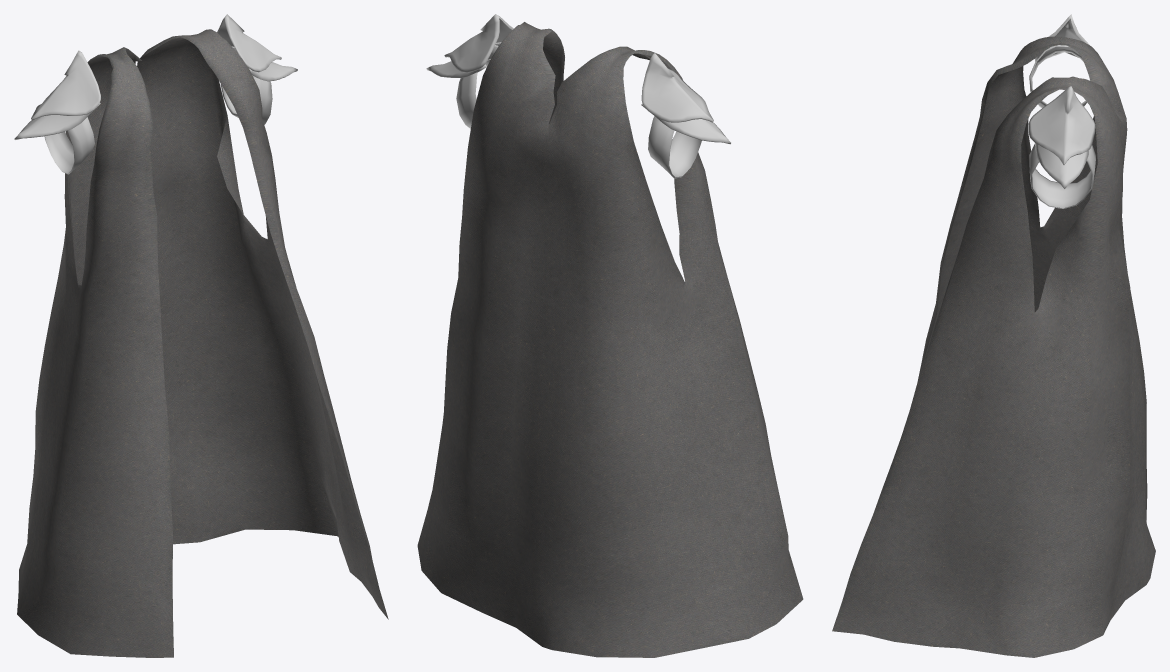
File: rivendell_pauldron_tier1_robe_silvergold.fbx
3 views of the same model, side by side, from view 1: azimuth 30°, elevation 25°; view 2: azimuth 150°, elevation 25°; view 3: azimuth 270°, elevation 25° (orthographic). The views are drawn at different scales.
Visible parts, largest first — view 1: rivendell_pauldron_tier1_robe_silvergold.0, rivendell_pauldron_tier1_robe_silvergold.1; view 2: rivendell_pauldron_tier1_robe_silvergold.0, rivendell_pauldron_tier1_robe_silvergold.1; view 3: rivendell_pauldron_tier1_robe_silvergold.0, rivendell_pauldron_tier1_robe_silvergold.1.
Part boxes in pixels (bbox=[...]): rivendell_pauldron_tier1_robe_silvergold.0: bbox=[17, 29, 388, 657]; rivendell_pauldron_tier1_robe_silvergold.1: bbox=[14, 14, 297, 174]; rivendell_pauldron_tier1_robe_silvergold.0: bbox=[417, 22, 803, 657]; rivendell_pauldron_tier1_robe_silvergold.1: bbox=[426, 14, 730, 178]; rivendell_pauldron_tier1_robe_silvergold.0: bbox=[832, 36, 1155, 657]; rivendell_pauldron_tier1_robe_silvergold.1: bbox=[1028, 14, 1095, 208].
Bounding box in the file's own units: 0.8449 × 0.7529 × 1.38.
